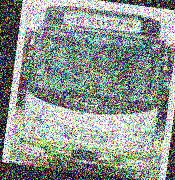bus: (10, 0, 175, 174)
